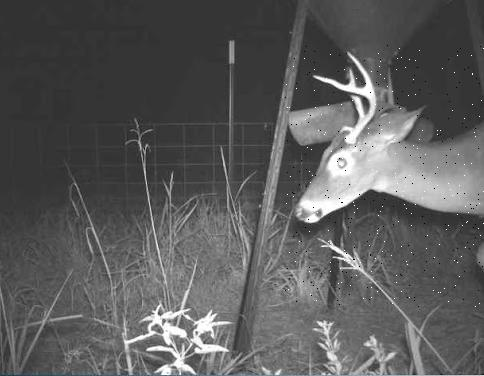Deer: (285, 45, 484, 309)
